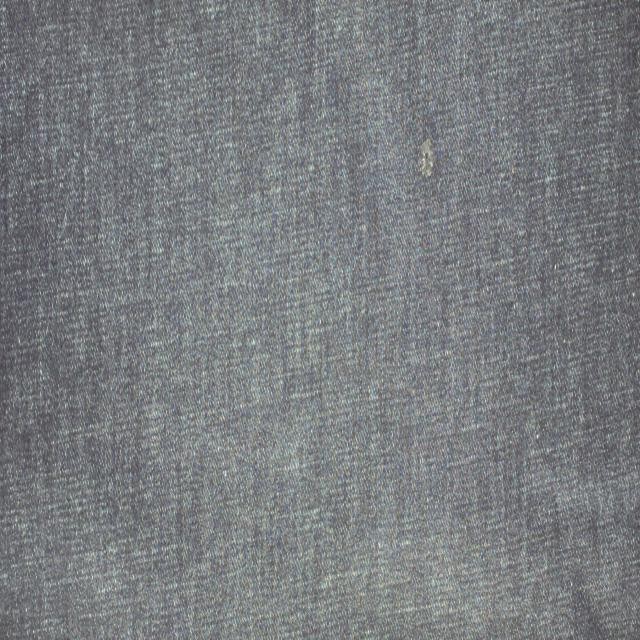Stain: (419, 138, 436, 176)
